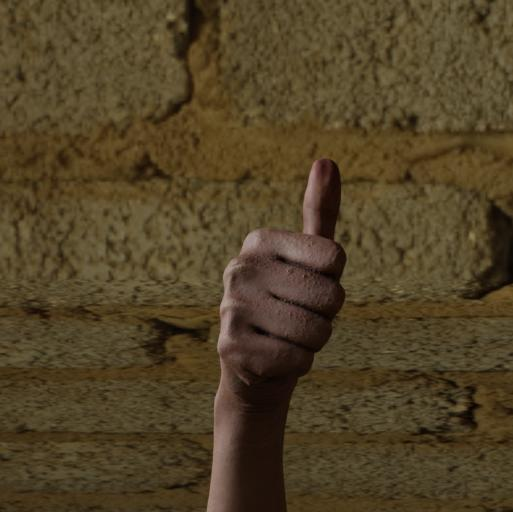thumbs-up: (214, 150, 351, 396)
